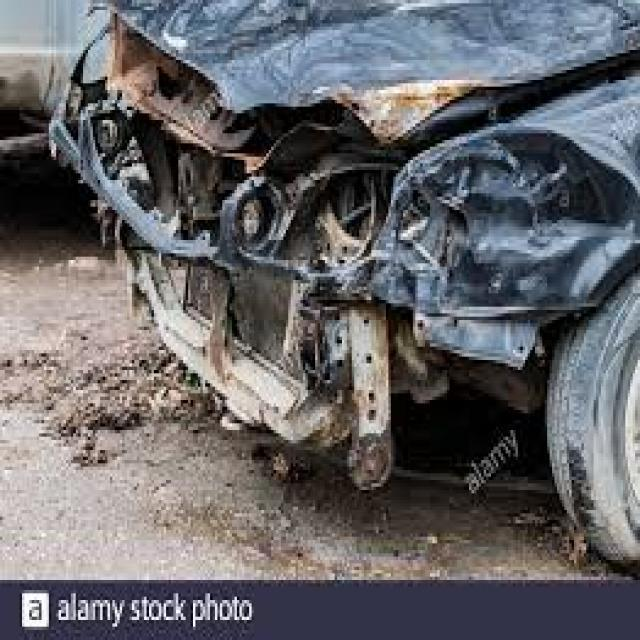damaged-front-bumper: (98, 238, 529, 470)
damaged-head-light: (242, 117, 436, 226)
